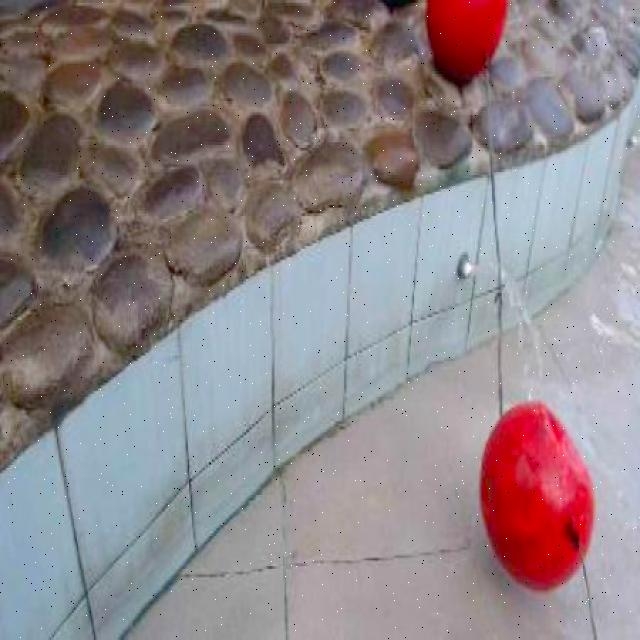buoy: (479, 403, 595, 593), (425, 0, 508, 77)
